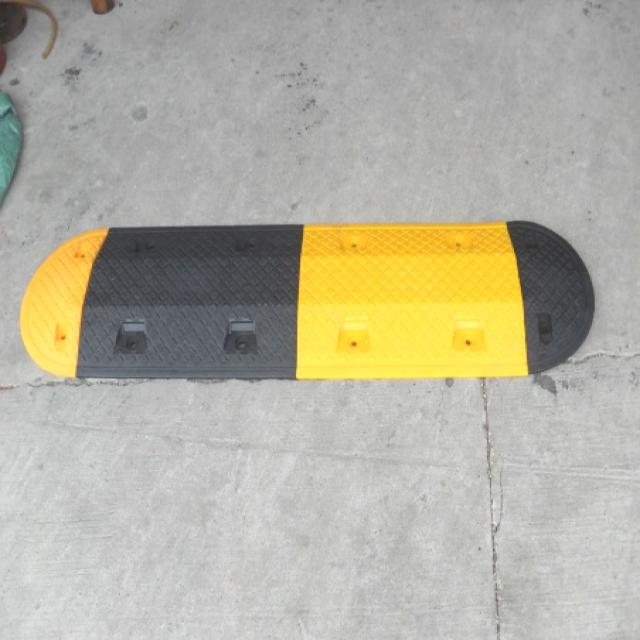Speed Bump: (36, 218, 584, 384)
